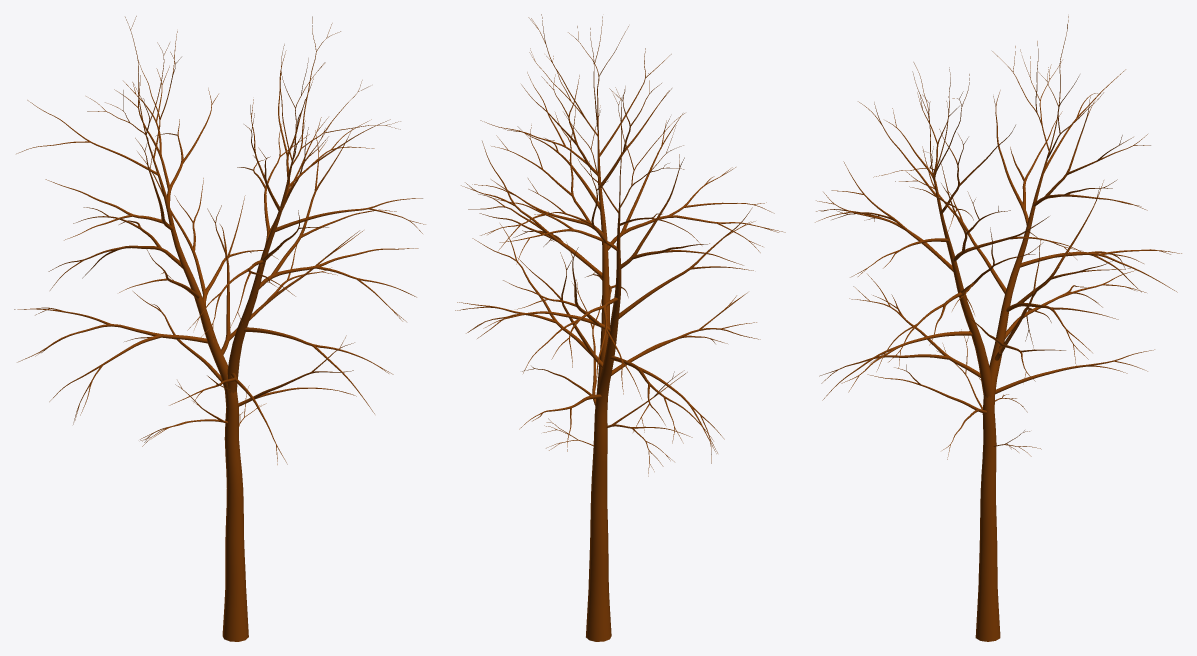
File: TREE_TRUNK_4.fbx
3 renders of one model, left to right at view 1: azimuth 30°, elevation 25°; view 2: azimuth 150°, elevation 25°; view 3: azimuth 270°, elevation 25°, orthographic. The views are drawn at different scales.
Visible parts, largest first — view 1: tree.007; view 2: tree.007; view 3: tree.007.
Part boxes in pixels (bbox=[...]): tree.007: bbox=[14, 16, 425, 641]; tree.007: bbox=[455, 14, 785, 641]; tree.007: bbox=[815, 16, 1181, 641].
Size of the model in its own units: 701 by 1278 by 718.
